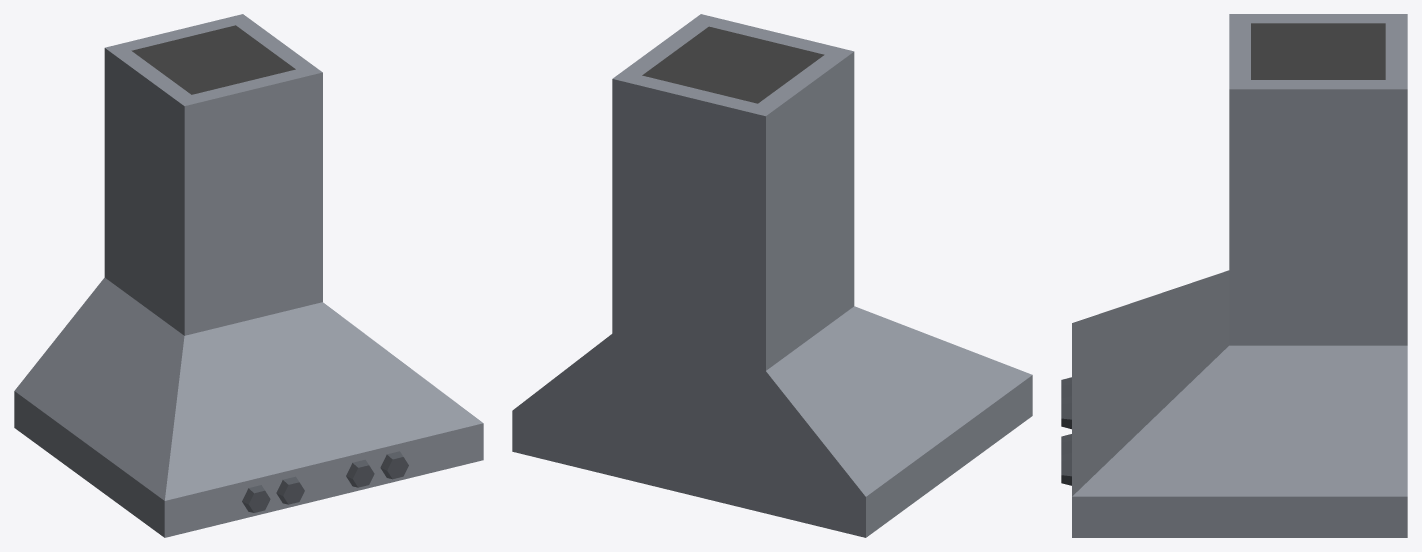
The model's file is SM_Prop_Kitchen_Extractor_01.fbx.
3 views of the same model, side by side, from view 1: azimuth 30°, elevation 25°; view 2: azimuth 150°, elevation 25°; view 3: azimuth 270°, elevation 25° (orthographic). The views are drawn at different scales.
Visible parts, largest first — view 1: SM_Prop_Kitchen_Extractor_01; view 2: SM_Prop_Kitchen_Extractor_01; view 3: SM_Prop_Kitchen_Extractor_01.
Part boxes in pixels (x1,y1,x2,y2): SM_Prop_Kitchen_Extractor_01: (14, 14, 483, 537); SM_Prop_Kitchen_Extractor_01: (512, 14, 1032, 537); SM_Prop_Kitchen_Extractor_01: (1061, 14, 1407, 537).
Bounding box in the file's own units: 100 × 107 × 84.27.
